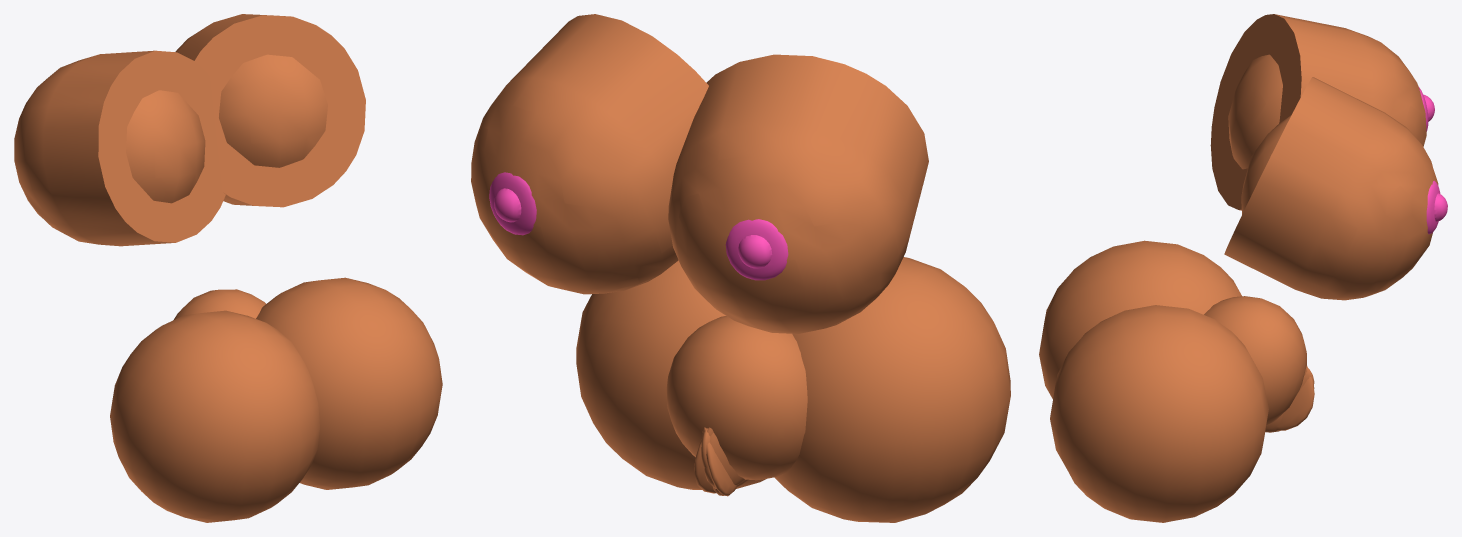
Rendered from chest_new.obj.
3 renders of one model, left to right at view 1: azimuth 30°, elevation 25°; view 2: azimuth 150°, elevation 25°; view 3: azimuth 270°, elevation 25°, orthographic. The views are drawn at different scales.
Visible parts, largest first — view 1: Rightcircle1, Union1, Union21, Leftcircle1, Skin21; view 2: Union1, Union21, Rightcircle1, Leftcircle1, Skin21, Chesttop1, Chesttop21, Armor21; view 3: Leftcircle1, Union21, Union1, Rightcircle1, Skin21, Armor21, Chesttop21.
Part boxes in pixels (<box>): Rightcircle1: <box>110,310,319,522</box>; Union1: <box>14,50,225,246</box>; Union21: <box>175,14,365,207</box>; Leftcircle1: <box>256,277,442,489</box>; Skin21: <box>173,289,265,320</box>; Union1: <box>668,54,928,333</box>; Union21: <box>471,14,708,294</box>; Rightcircle1: <box>774,257,1010,522</box>; Leftcircle1: <box>576,260,765,489</box>; Skin21: <box>666,316,807,480</box>; Chesttop1: <box>725,219,788,280</box>; Chesttop21: <box>489,172,536,235</box>; Armor21: <box>694,427,748,496</box>; Leftcircle1: <box>1050,305,1268,522</box>; Union21: <box>1224,77,1438,300</box>; Union1: <box>1210,14,1426,210</box>; Rightcircle1: <box>1039,240,1241,398</box>; Skin21: <box>1204,296,1306,425</box>; Armor21: <box>1265,366,1314,432</box>; Chesttop21: <box>1426,180,1447,234</box>.
Bounding box in the file's own units: 2.13 × 2.63 × 2.29.
